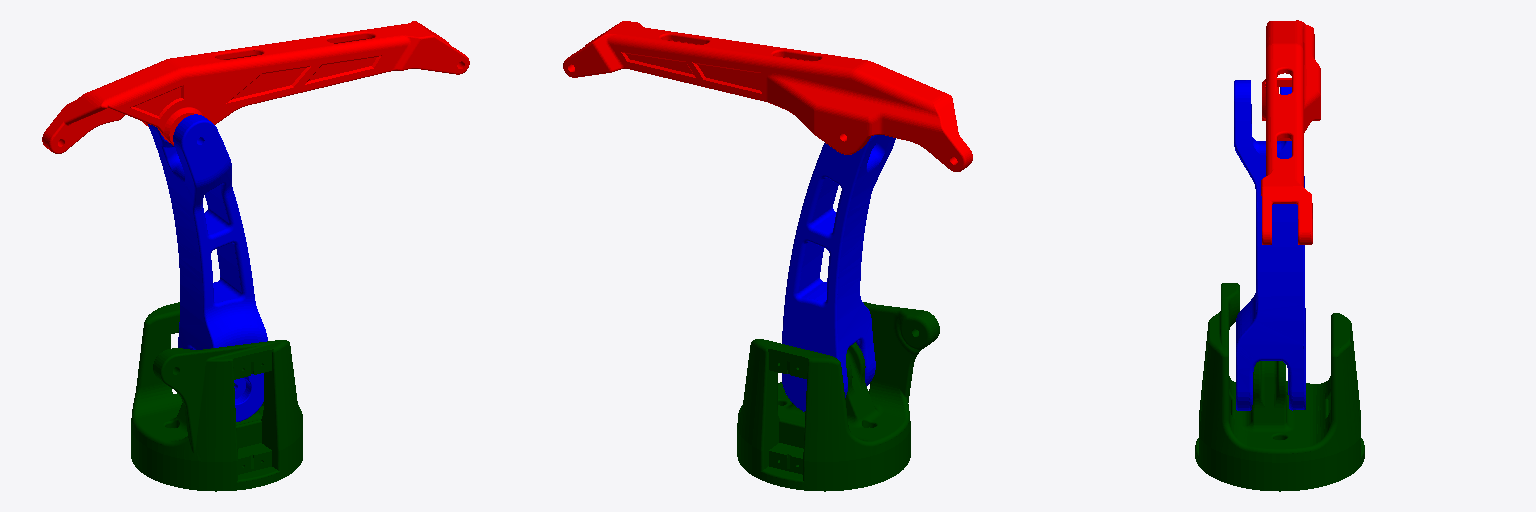
URDF robot description (siBOT):
<?xml version="1.0"?>

<robot
  name="siBOT">

<!-- BASE LINK -->
  <link
    name="base_link">
    <visual>
      <origin
        xyz="0 0 0"
        rpy="0 0 0" />
      <geometry>
        <mesh
          filename="package://manipulator_urdf/meshes/base_link.STL" />
      </geometry>
      <material
        name="">
        <color
          rgba="0 0.275 0 1" />
      </material>
    </visual>
  </link>

<!-- JOINT 1 -->
  <joint
    name="joint_1"
    type="revolute">
    <origin
      xyz="0 0 0.05"
      rpy="0 0 0" />
    <parent
      link="base_link" />
    <child
      link="link_1" />
    <axis
      xyz="0 0 1" />
    <limit
      effort="0"
      velocity="0"
      lower="-0.7854" upper="0.7854"/>
      <!--   [-45,45]-->
  </joint>

<!-- LINK 1 -->
  <link
    name="link_1">
    <visual>
      <origin
        xyz="0 -0.04 0"
        rpy="0 0 0" />
      <geometry>
        <mesh
          filename="package://manipulator_urdf/meshes/link_1.STL" />
      </geometry>
      <material
        name="">
        <color
          rgba="0 0.275 0 1" />
      </material>
    </visual>
  </link>

<!-- JOINT 2 -->
  <joint
    name="joint_2"
    type="revolute">
    <origin
      xyz="0 -0.005 0.035"
      rpy="1.578 0 0" />
    <parent
      link="link_1" />
    <child
      link="link_2" />
    <axis
      xyz="0 0 1" />
    <limit
      effort="0"
      velocity="0"
      lower="-0.6109" upper="0.9599"/>
      <!--   [-35,55]-->
  </joint>

<!-- LINK 2-->
  <link
    name="link_2">
    <visual>
      <origin
        xyz="0 0 0.0075"
        rpy="3.14159 0 0" />
      <geometry>
        <mesh
          filename="package://manipulator_urdf/meshes/link_2.STL" />
      </geometry>
      <material
        name="">
        <color
          rgba="0 0 1 1" />
      </material>
    </visual>
  </link>

<!-- JOINT 3 -->
  <joint
    name="joint_3"
    type="revolute">
    <origin
      xyz="-0.021 0.133 -0.0105"
      rpy="0 0 0" />
    <parent
      link="link_2" />
    <child
      link="link_3" />
    <axis
      xyz="0 0 1" />
    <limit
      effort="0"
      velocity="0"
      lower="-1.2217" upper="0.3491"/>
      <!--   [-70,20]-->
  </joint>

<!-- LINK 3 -->
   <link
    name="link_3">
    <visual>
      <origin
        xyz="0 0 0.0335"
        rpy="3.14159 0 0.1309" />
      <geometry>
        <mesh
          filename="package://manipulator_urdf/meshes/link_3.STL" />
      </geometry>
      <material
        name="">
        <color
          rgba="1 0 0 1" />
      </material>
    </visual>
  </link>

</robot>

--- Render facts (derived) ---
3 views of the same robot in one strip: view 1: azimuth 30°, elevation 25°; view 2: azimuth 150°, elevation 25°; view 3: azimuth 270°, elevation 25° (orthographic).
Robot: siBOT — 4 links, 3 joints (3 revolute); root link base_link; default pose: all joints at 0.
Links seen in each view (by area): view 1: link_1, link_3, link_2; view 2: link_1, link_3, link_2; view 3: link_1, link_2, link_3.
Link boxes in pixels (left/top/right/bottom): link_1: left=131, top=302, right=302, bottom=491; link_3: left=42, top=21, right=469, bottom=153; link_2: left=148, top=114, right=267, bottom=421; link_1: left=737, top=302, right=939, bottom=491; link_3: left=563, top=21, right=972, bottom=171; link_2: left=782, top=135, right=895, bottom=411; link_1: left=1195, top=283, right=1364, bottom=491; link_2: left=1234, top=80, right=1305, bottom=410; link_3: left=1261, top=20, right=1320, bottom=244.
Size in the robot's own frame: 0.215 by 0.08 by 0.2041 metres.
3 mesh visuals loaded from 4 distinct referenced files (3 binary STL); not drawn: 1 (reference not matched to a file when rendering).